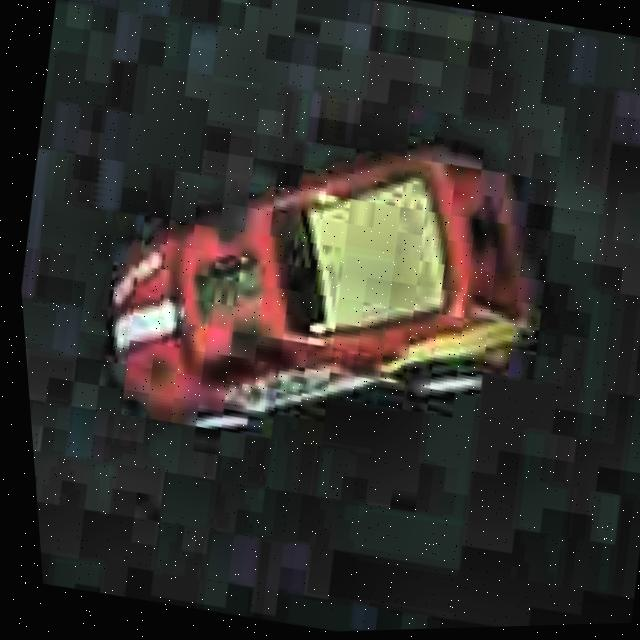car: (63, 82, 583, 495)
